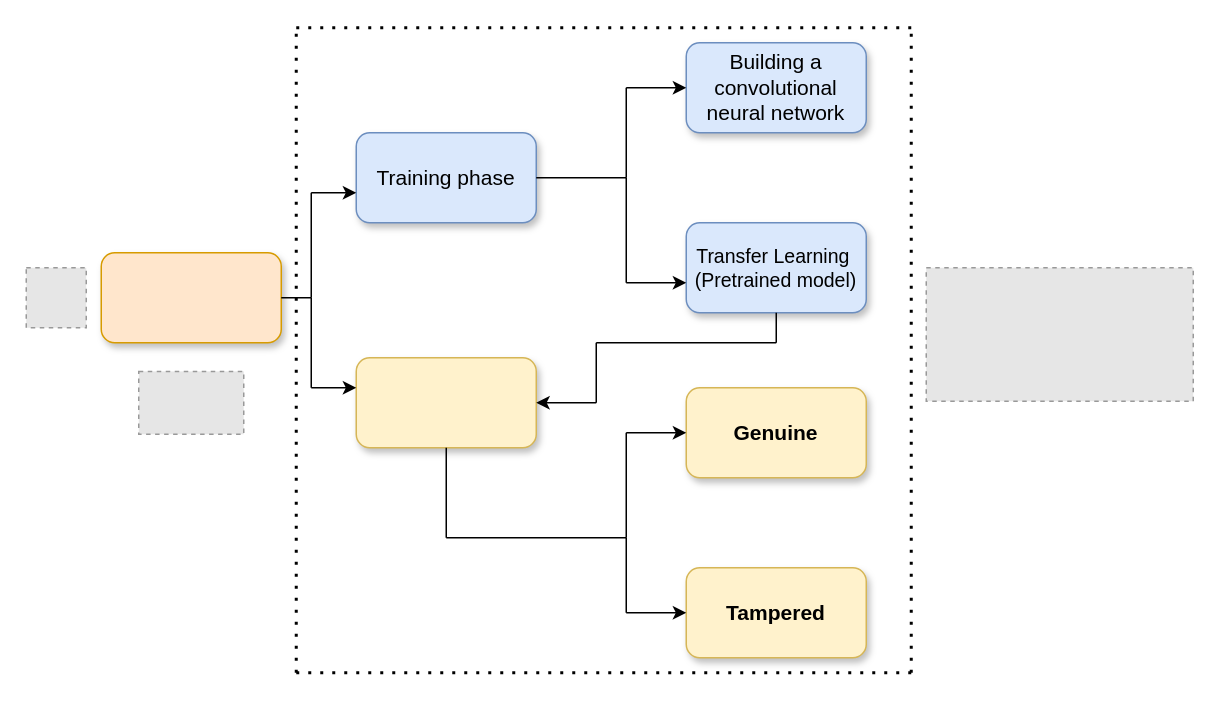
The diagram is 1220 pixels wide and 701 high, and some of its shapes have lost their labels. Grey dashed boxes stand in for pictures. Each missing label, with the centre of its shape:
Prediction: pixel 447 404
Unforgeable: pixel 192 299
